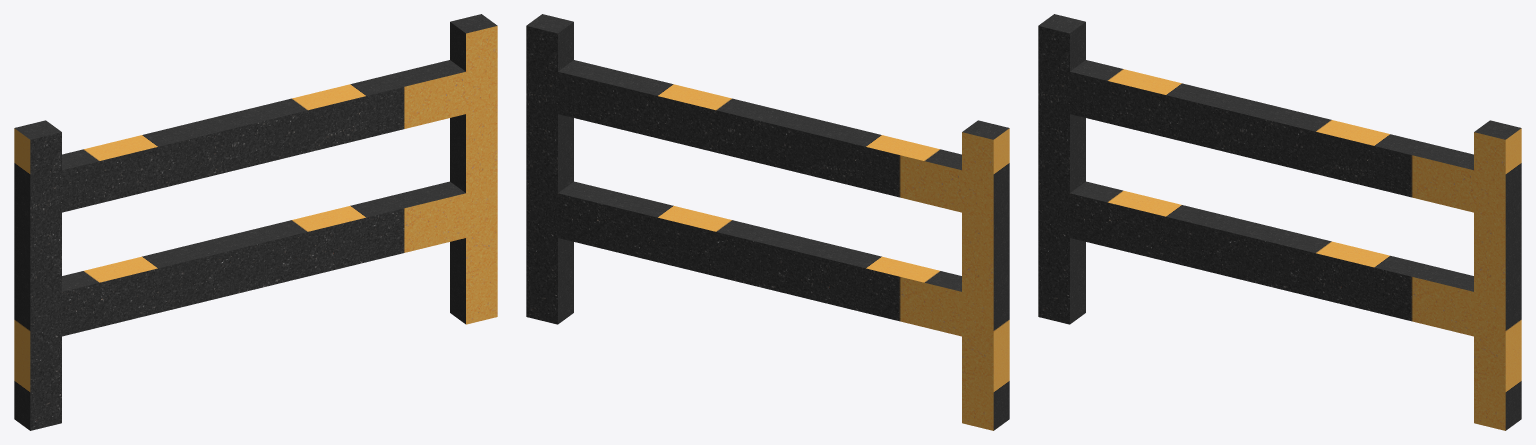
The model's file is Fence.fbx.
The picture shows the model from 3 angles, left to right: view 1: azimuth 30°, elevation 25°; view 2: azimuth 150°, elevation 25°; view 3: azimuth 330°, elevation 25°; orthographic projection.
Parts seen in each view (by area): view 1: Fence; view 2: Fence; view 3: Fence.
Boxes of the visible parts, x1,y1,x2,y2 form: Fence: [14, 14, 497, 430]; Fence: [526, 14, 1009, 430]; Fence: [1038, 14, 1521, 430].
Bounding box in the file's own units: 183 × 109 × 10.97.
